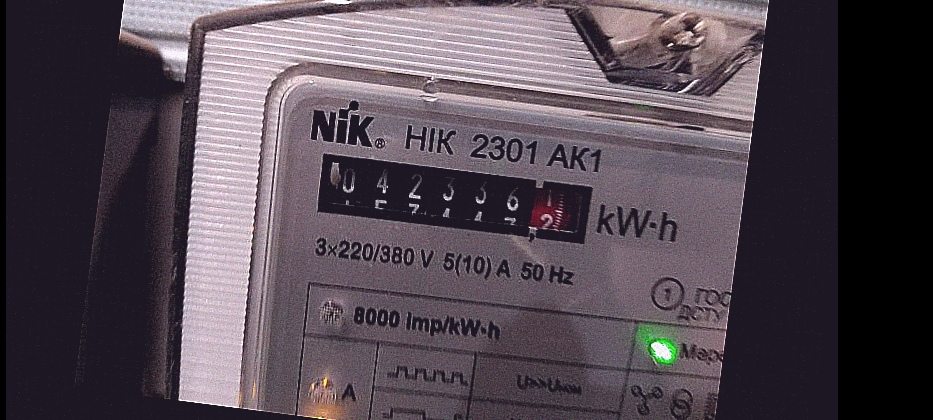0: (339, 165, 358, 195)
1: (542, 185, 556, 208)
2: (407, 170, 426, 201), (537, 211, 555, 231)
3: (470, 175, 490, 207), (439, 173, 457, 203)
4: (373, 164, 394, 195)
6: (504, 181, 524, 213)
screen: (303, 138, 607, 256)
